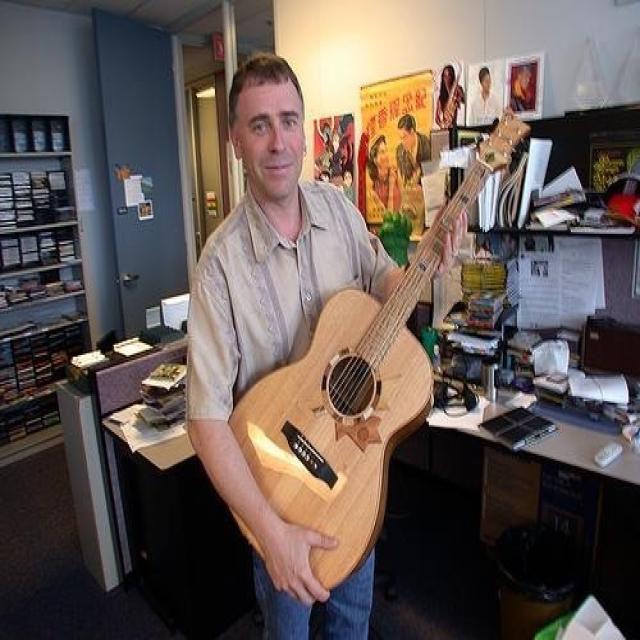guitar: (216, 107, 529, 594)
